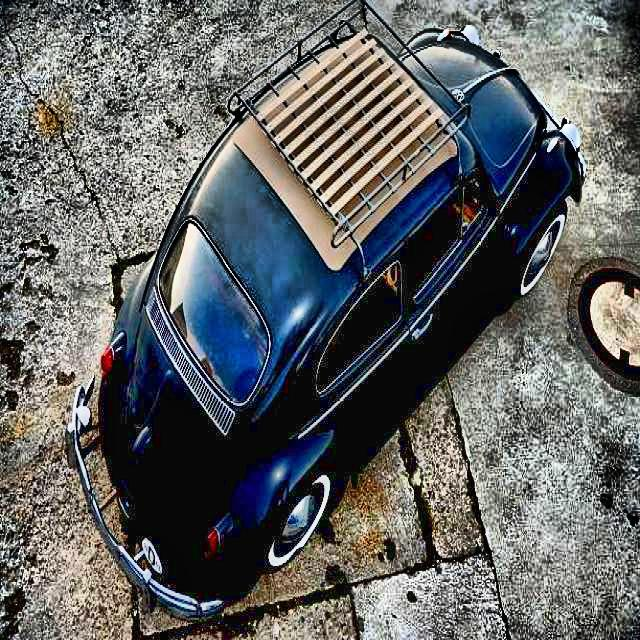carro: (94, 29, 578, 591)
